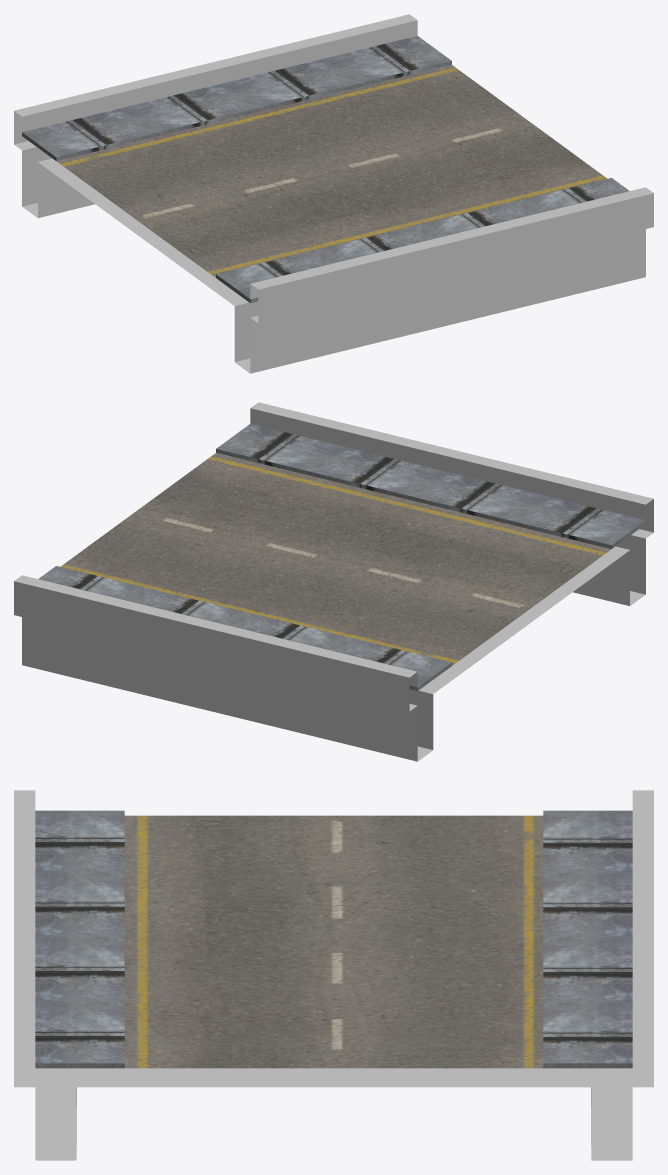
File: Urban_Road1BridgeSegment_Model.fbx
The picture shows the model from 3 angles, top to bottom: view 1: azimuth 30°, elevation 25°; view 2: azimuth 150°, elevation 25°; view 3: azimuth 270°, elevation 25°; orthographic projection. The views are drawn at different scales.
Parts seen in each view (by area): view 1: Urban_Road1BridgeSegment_Mesh; view 2: Urban_Road1BridgeSegment_Mesh; view 3: Urban_Road1BridgeSegment_Mesh.
Part boxes in pixels (x1=…): Urban_Road1BridgeSegment_Mesh: x1=14, y1=14, x2=653, y2=373; Urban_Road1BridgeSegment_Mesh: x1=14, y1=402, x2=653, y2=761; Urban_Road1BridgeSegment_Mesh: x1=14, y1=790, x2=653, y2=1160.
Size of the model in its own units: 16 by 3.48 by 17.13.
